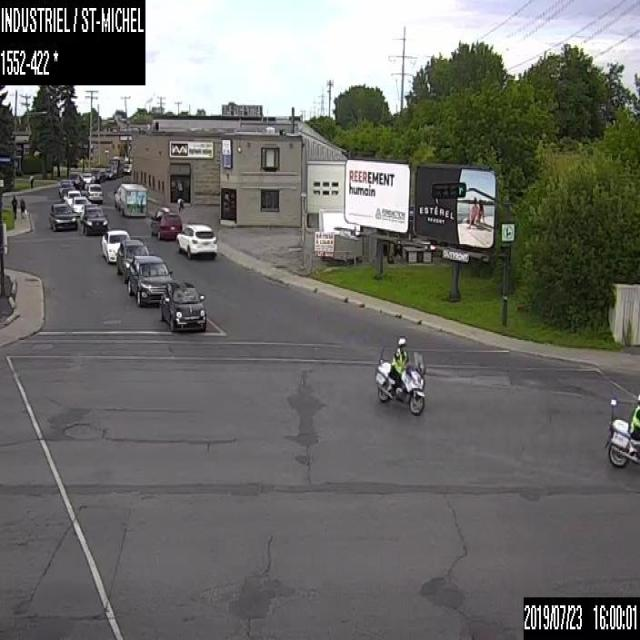pedestrian: (10, 195, 18, 219), (19, 197, 25, 219), (177, 196, 183, 214), (29, 174, 33, 189)
vehicle: (374, 334, 426, 414), (603, 390, 639, 470), (126, 254, 172, 307), (160, 281, 206, 331), (176, 221, 216, 259), (116, 238, 149, 282), (113, 182, 146, 218), (150, 206, 182, 240), (100, 228, 130, 263), (80, 204, 108, 235), (49, 201, 76, 229), (70, 196, 90, 217), (85, 182, 103, 203), (63, 189, 81, 206)
